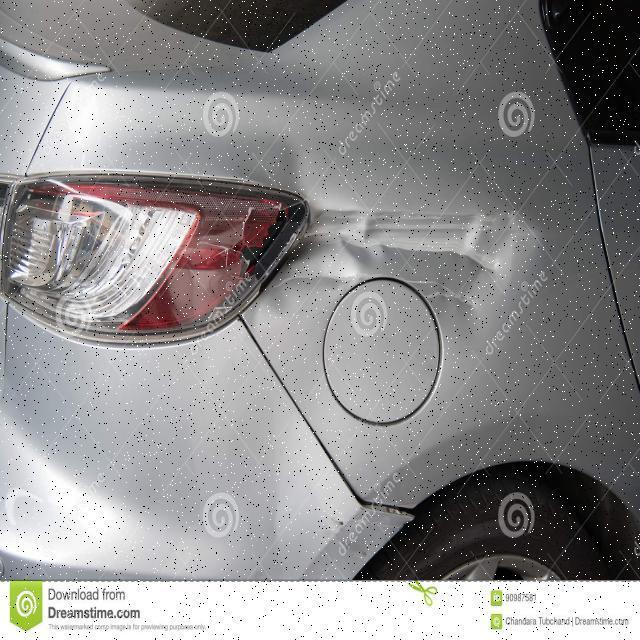Taillight-Damage: (3, 142, 323, 376)
quaterpanel-dent: (280, 133, 630, 589)
rear-bumper-dent: (0, 296, 422, 582)
